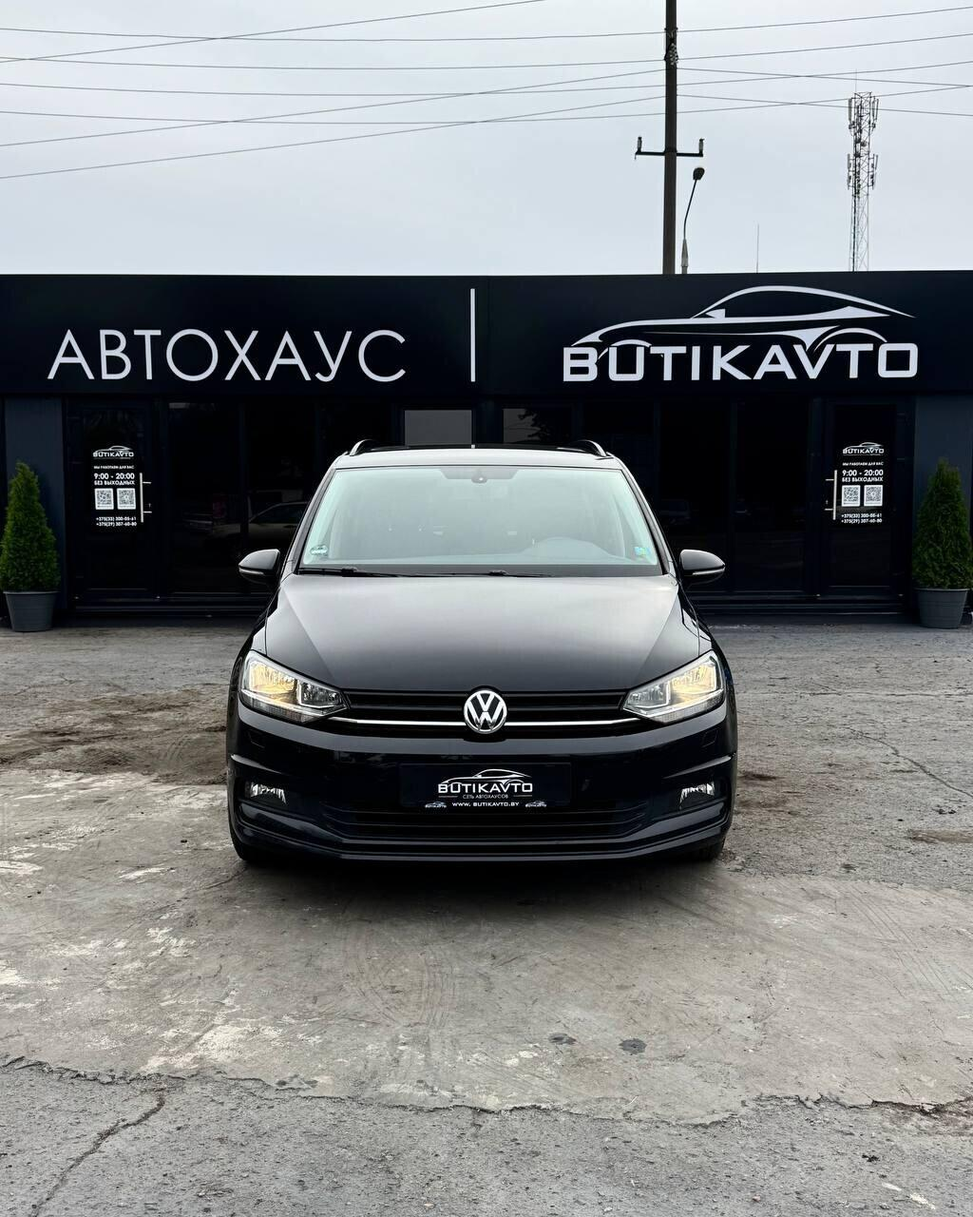Touran_2015: (225, 437, 746, 884)
